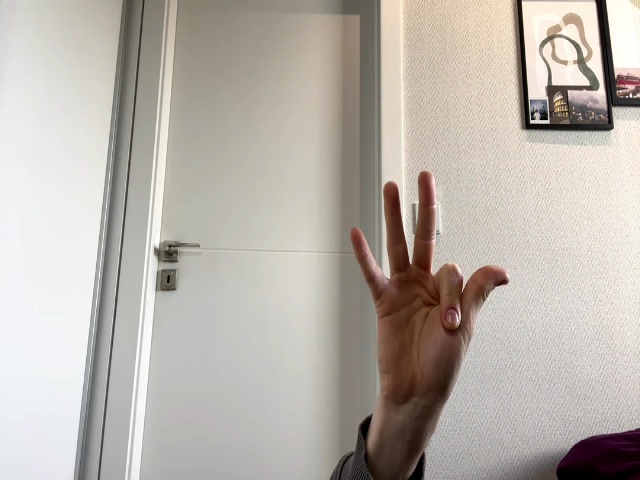F: (351, 172, 509, 398)
